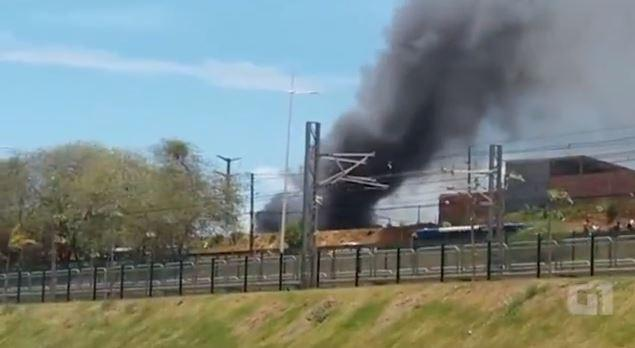smoke: (408, 16, 561, 91)
